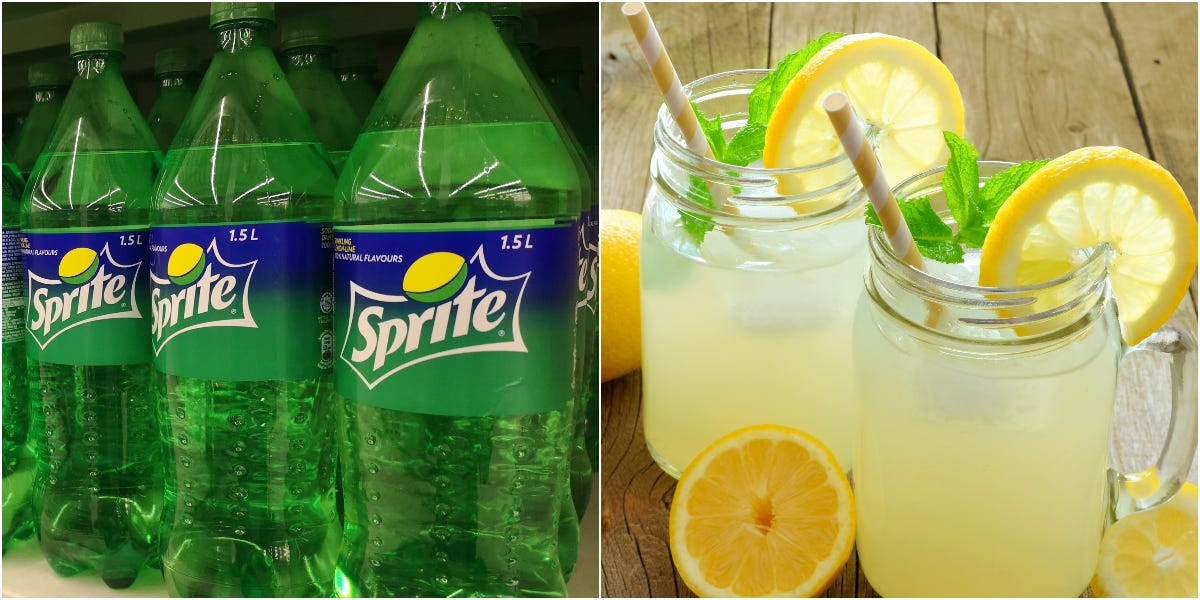Sprite: (342, 11, 568, 595), (146, 1, 371, 583), (1, 1, 151, 576)
